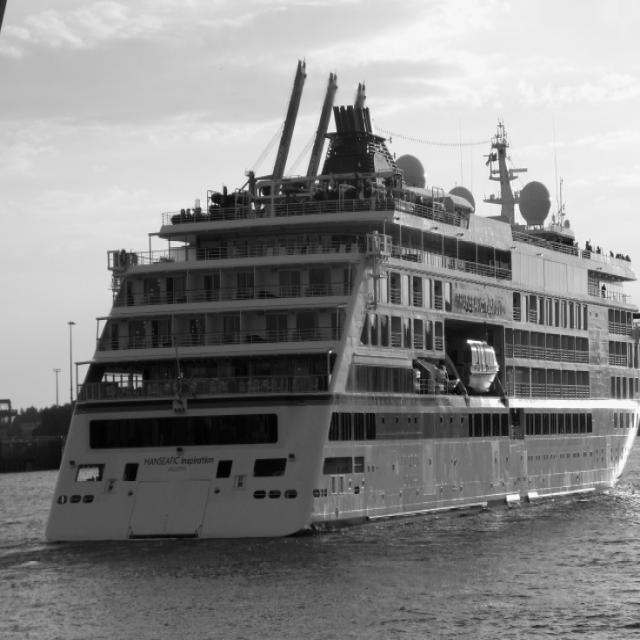cruises: (42, 104, 640, 559)
